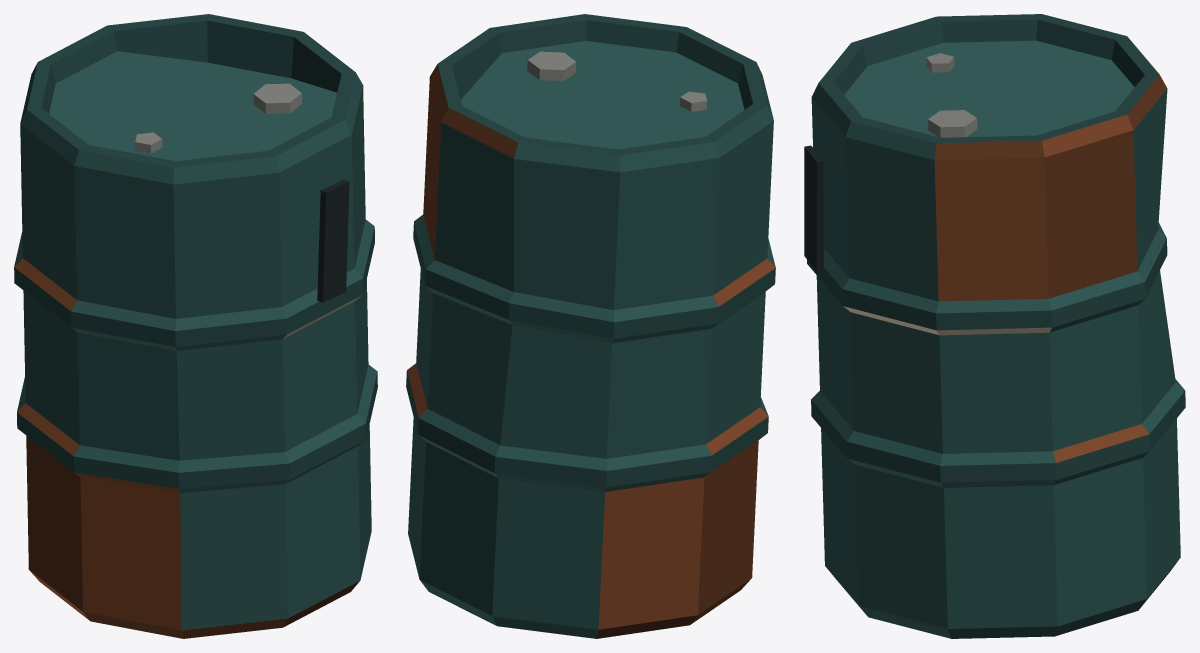
Rendered from barril.glb.
The picture shows the model from 3 angles, left to right: view 1: azimuth 30°, elevation 25°; view 2: azimuth 150°, elevation 25°; view 3: azimuth 270°, elevation 25°; orthographic projection.
Visible parts, largest first — view 1: barril.001; view 2: barril.001; view 3: barril.001.
Part boxes in pixels (bbox=[...]): barril.001: bbox=[14, 14, 377, 638]; barril.001: bbox=[406, 14, 775, 638]; barril.001: bbox=[804, 14, 1185, 638].
Size of the model in its own units: 0.5904 by 0.9021 by 0.6217.
